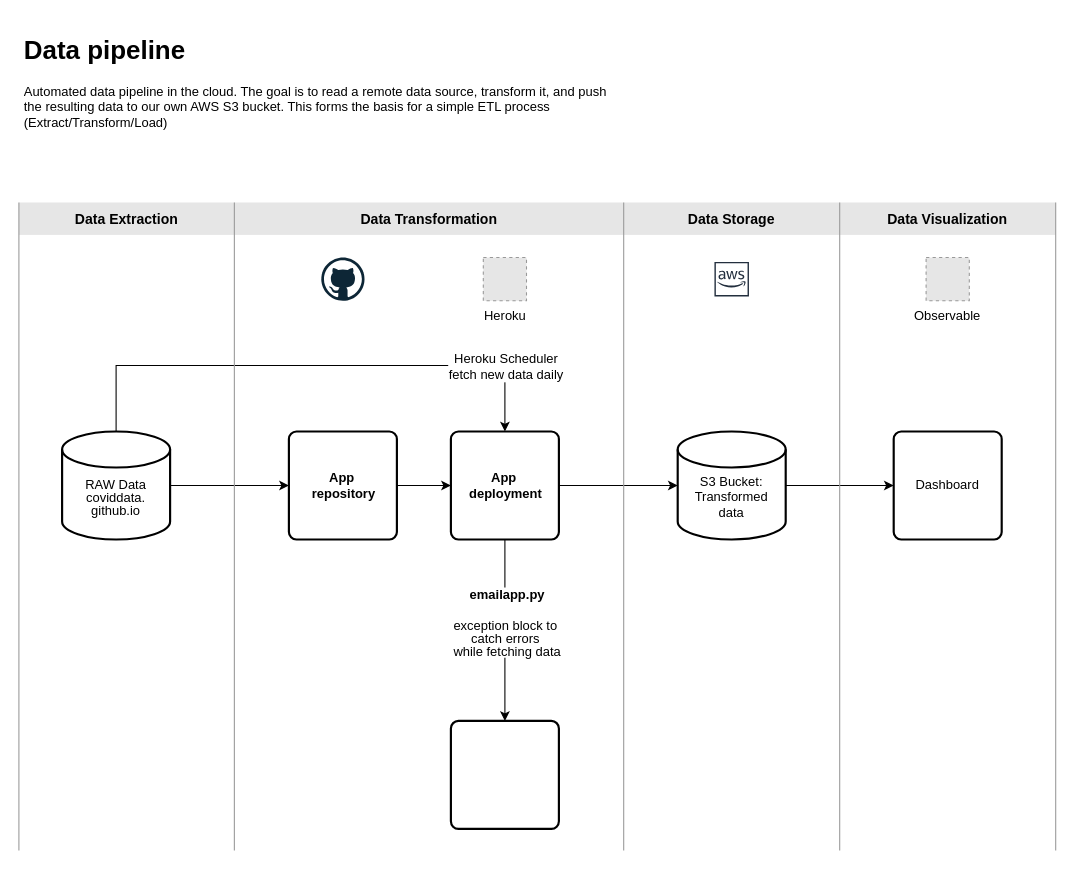
Image size: 1076x870. Some labels were removed from this diagram. Grey dashed boxes stand in for pictures. Each missing label, with the centre of its shape:
"AWS S3" goes at (x=731, y=278).
"Email notification" goes at (x=504, y=774).
"GitHub" goes at (x=342, y=278).
